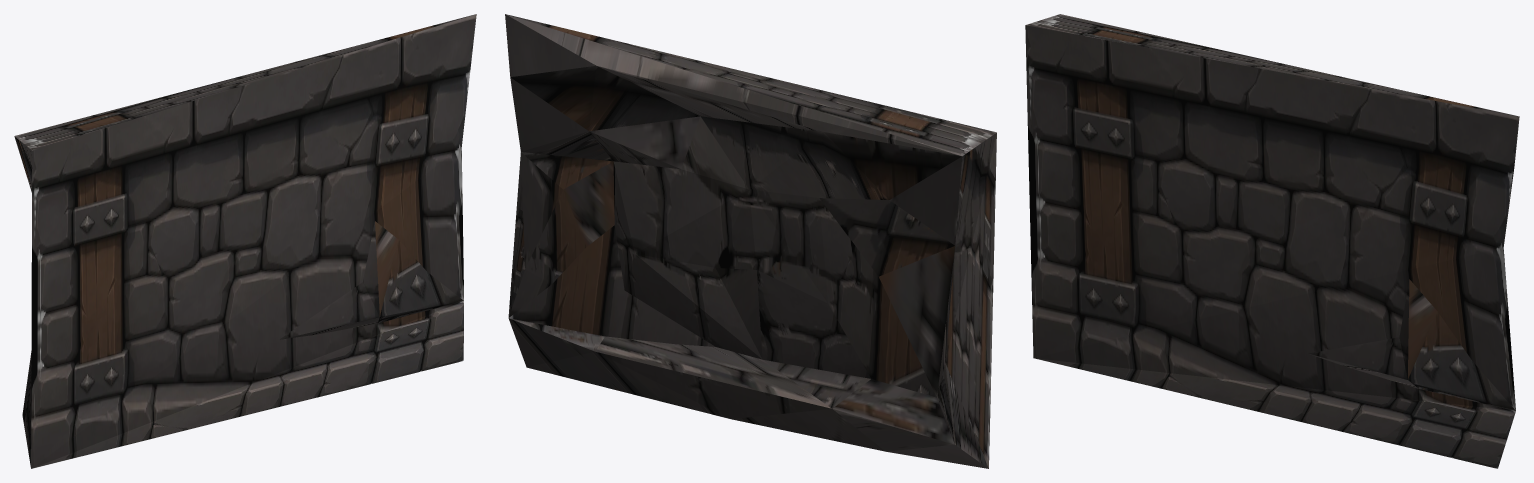
The model's file is SM_Dungeon_Wall_A_LOD3.glb.
3 renders of one model, left to right at view 1: azimuth 30°, elevation 25°; view 2: azimuth 150°, elevation 25°; view 3: azimuth 330°, elevation 25°, orthographic. The views are drawn at different scales.
Visible parts, largest first — view 1: SM_Dungeon_Wall_A_LOD3; view 2: SM_Dungeon_Wall_A_LOD3; view 3: SM_Dungeon_Wall_A_LOD3.
Boxes of the visible parts, x1=… form: SM_Dungeon_Wall_A_LOD3: x1=14, y1=14, x2=476, y2=468; SM_Dungeon_Wall_A_LOD3: x1=505, y1=14, x2=996, y2=468; SM_Dungeon_Wall_A_LOD3: x1=1025, y1=14, x2=1519, y2=468.
Bounding box in the file's own units: 4.04 × 2.86 × 0.3916.
Materials: 1 (1 with a texture image).
